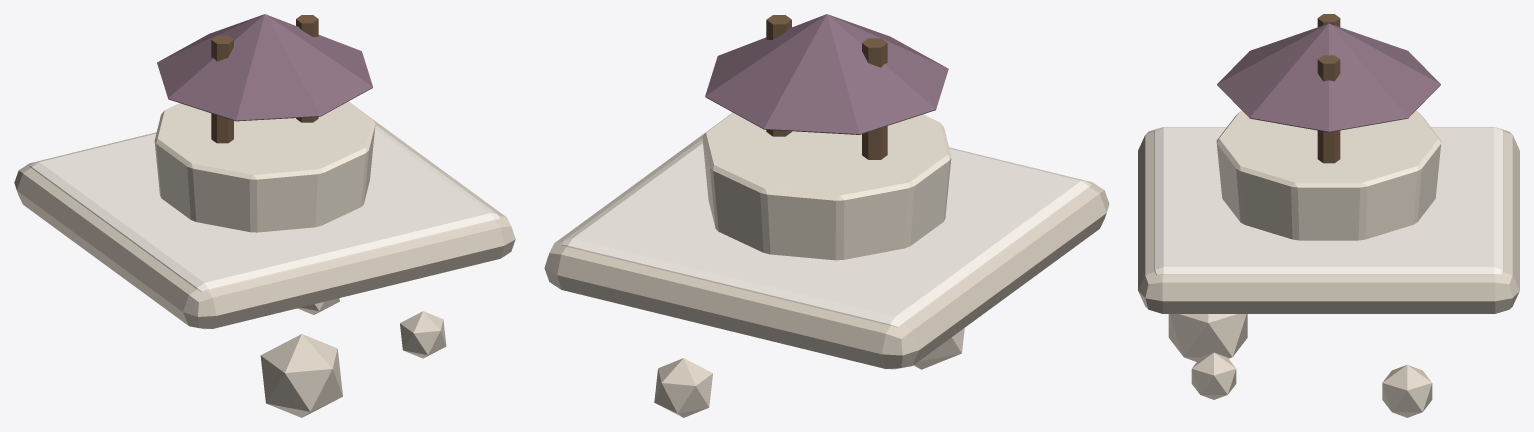
Rendered from island_bm25.glb.
The picture shows the model from 3 angles, left to right: view 1: azimuth 30°, elevation 25°; view 2: azimuth 150°, elevation 25°; view 3: azimuth 270°, elevation 25°; orthographic projection. The views are drawn at different scales.
Parts seen in each view (by area): view 1: island_bm25; view 2: island_bm25; view 3: island_bm25.
Part boxes in pixels (bbox=[...]): island_bm25: bbox=[14, 14, 515, 417]; island_bm25: bbox=[544, 14, 1109, 417]; island_bm25: bbox=[1138, 14, 1519, 417].
Bounding box in the file's own units: 1.56 × 1.6 × 1.56.
